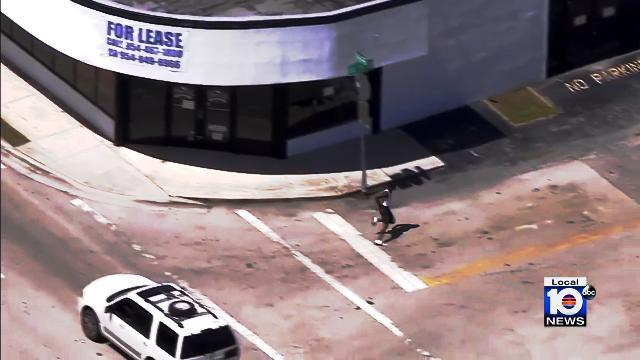berlari: (368, 180, 402, 248)
